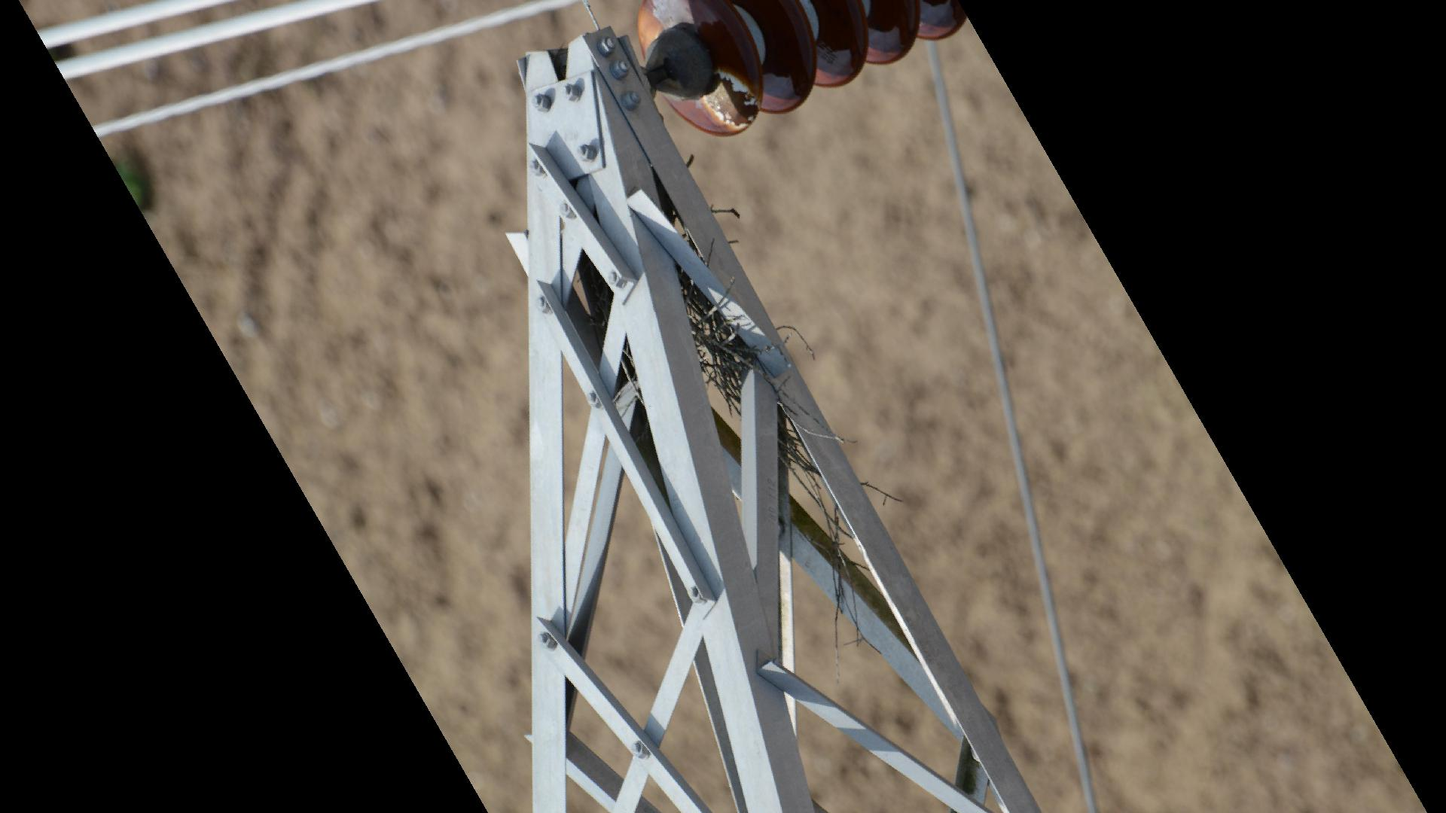insulator: (628, 1, 970, 142)
insulator_flashover: (697, 61, 764, 132)
